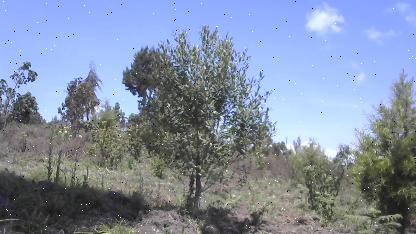tree: (118, 21, 282, 212)
